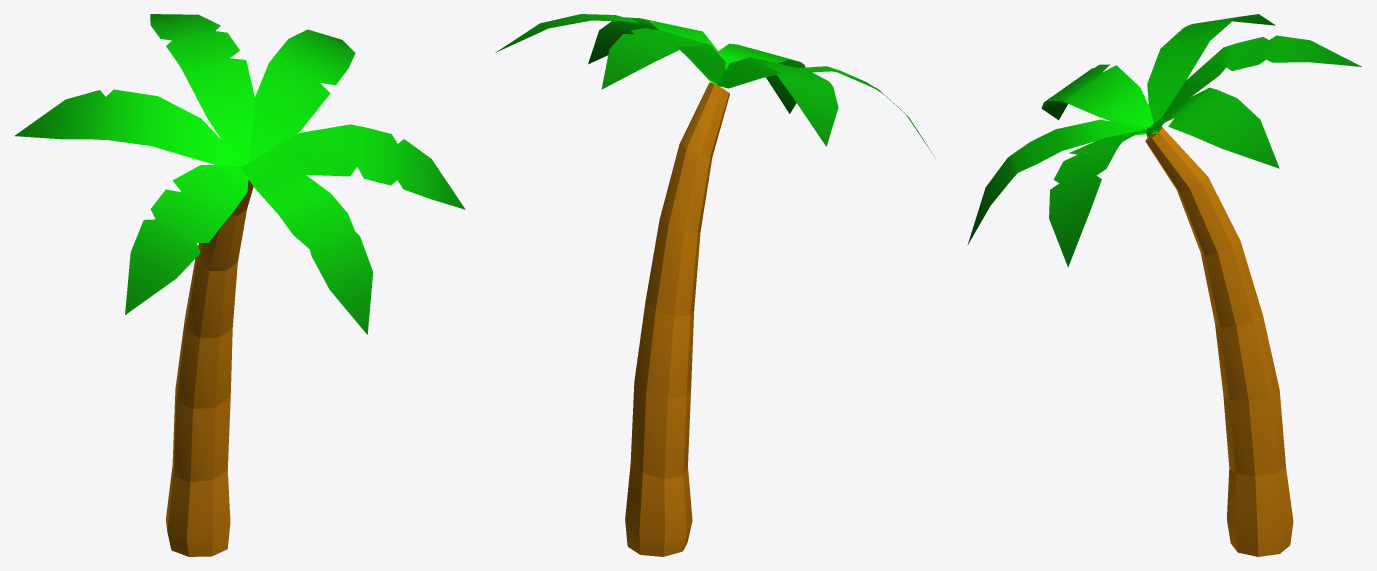
File: Pohon1.fbx
The picture shows the model from 3 angles, left to right: view 1: azimuth 30°, elevation 25°; view 2: azimuth 150°, elevation 25°; view 3: azimuth 270°, elevation 25°; orthographic projection. The views are drawn at different scales.
Visible parts, largest first — view 1: Tree_Palm; view 2: Tree_Palm; view 3: Tree_Palm.
Boxes of the visible parts, bbox=[...] form: Tree_Palm: bbox=[15, 14, 465, 556]; Tree_Palm: bbox=[495, 14, 934, 556]; Tree_Palm: bbox=[967, 14, 1361, 556].
Size of the model in its own units: 154 by 217 by 157.
